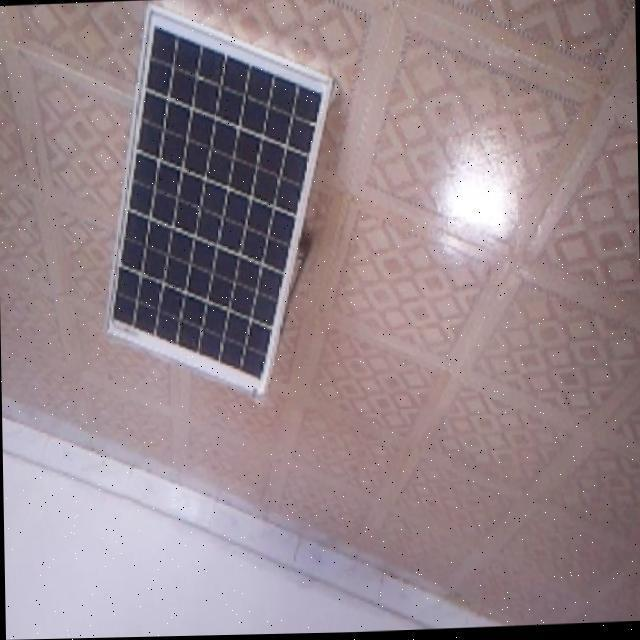Normal Solar Panel: (99, 0, 335, 402)
